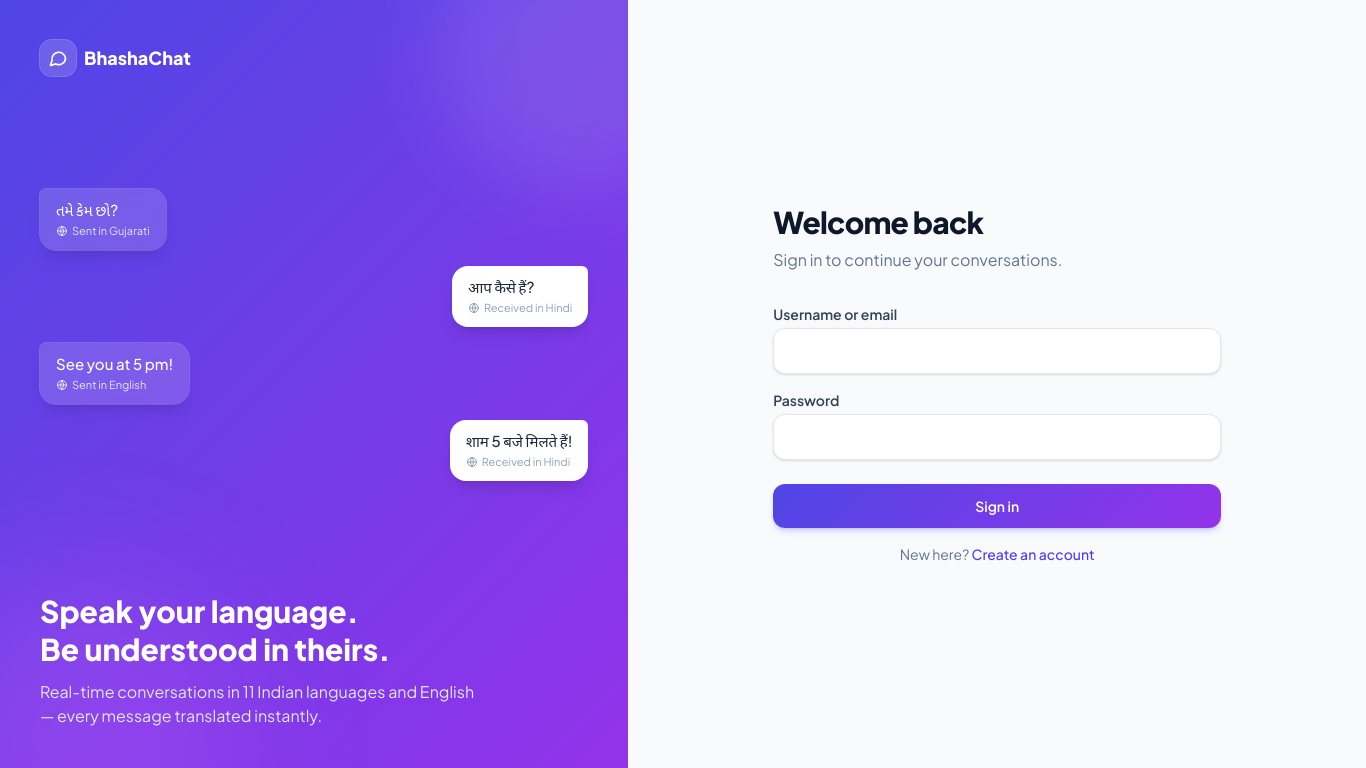
auth forms › shows a server error on failed login
Type "alice" into the field labelled "Username or email". click: (997, 351)
box: [773,328,1221,374]
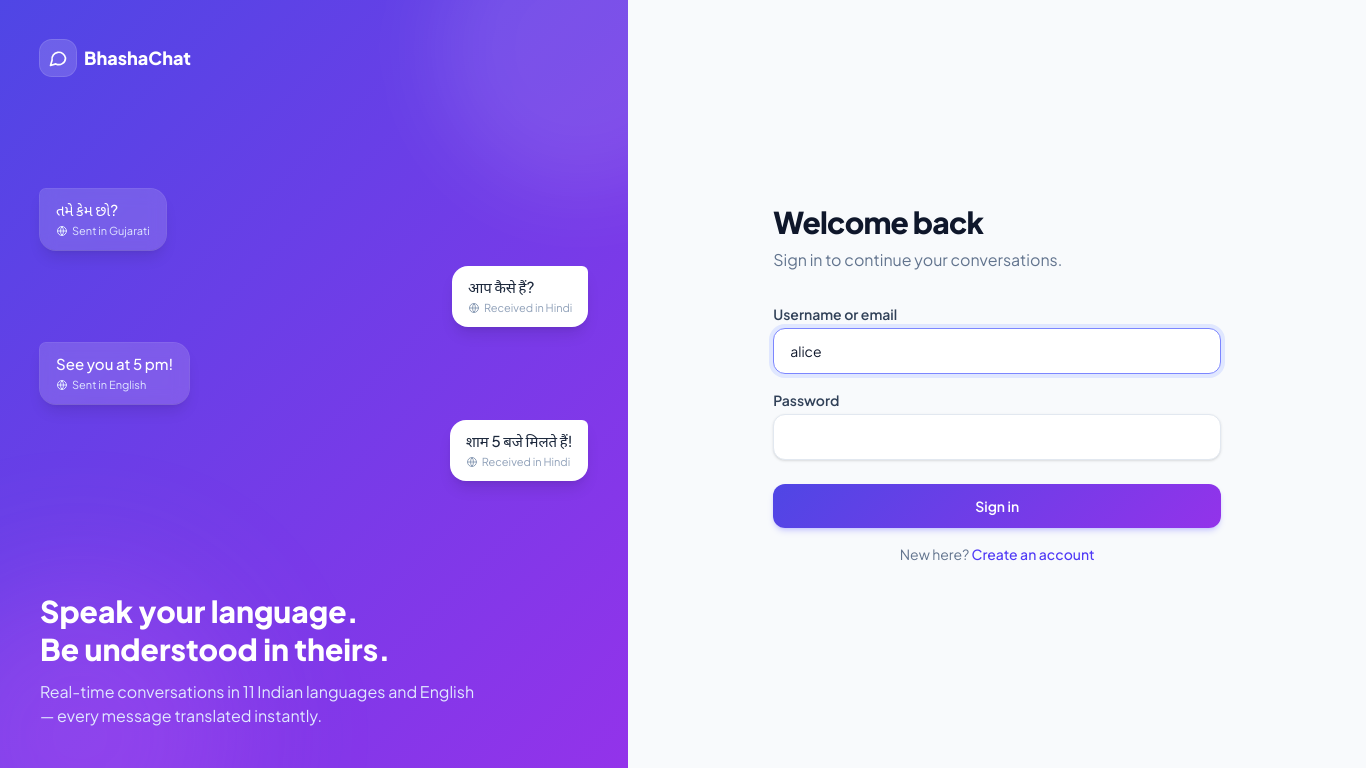
Type "wrong" into the password field labelled "Password". click: (997, 437)
box: [773,414,1221,460]
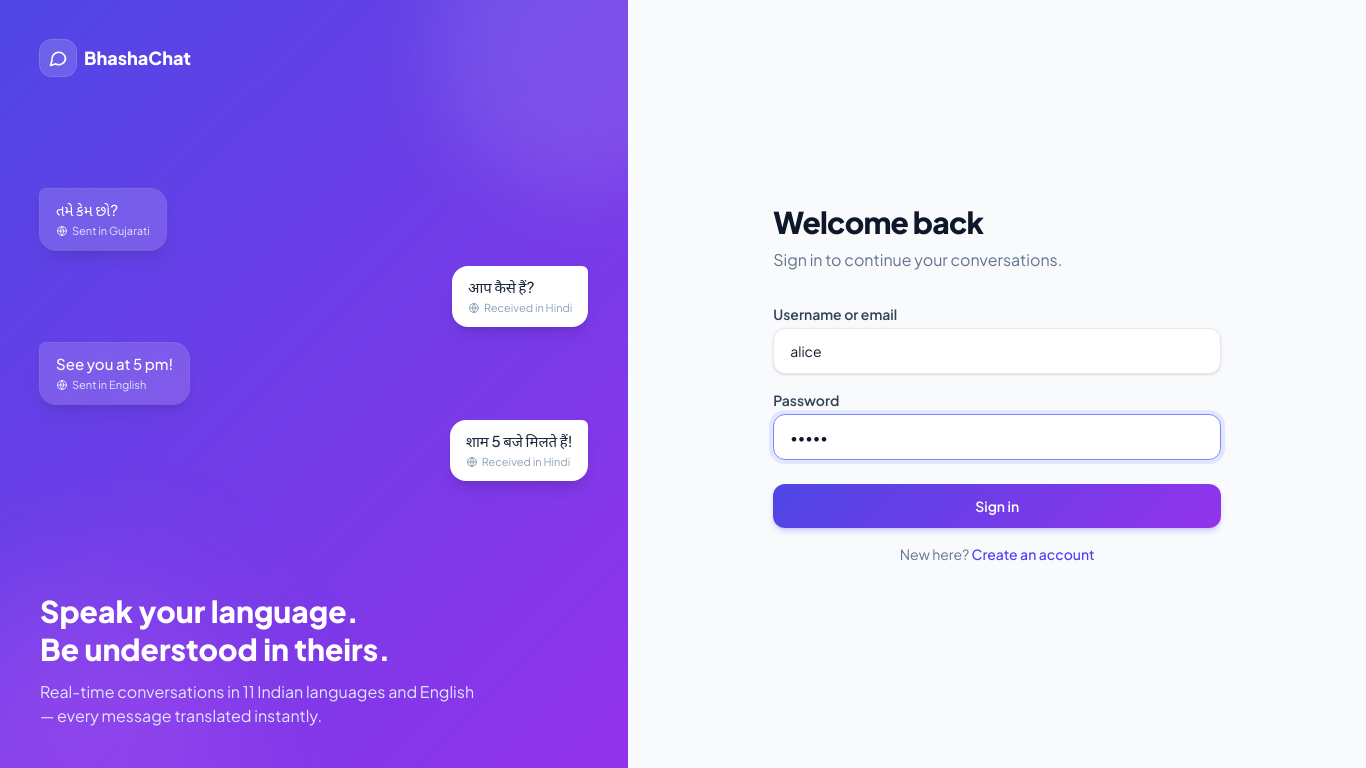
Click the button "Sign in". click: (997, 506)
box: [773,484,1221,528]
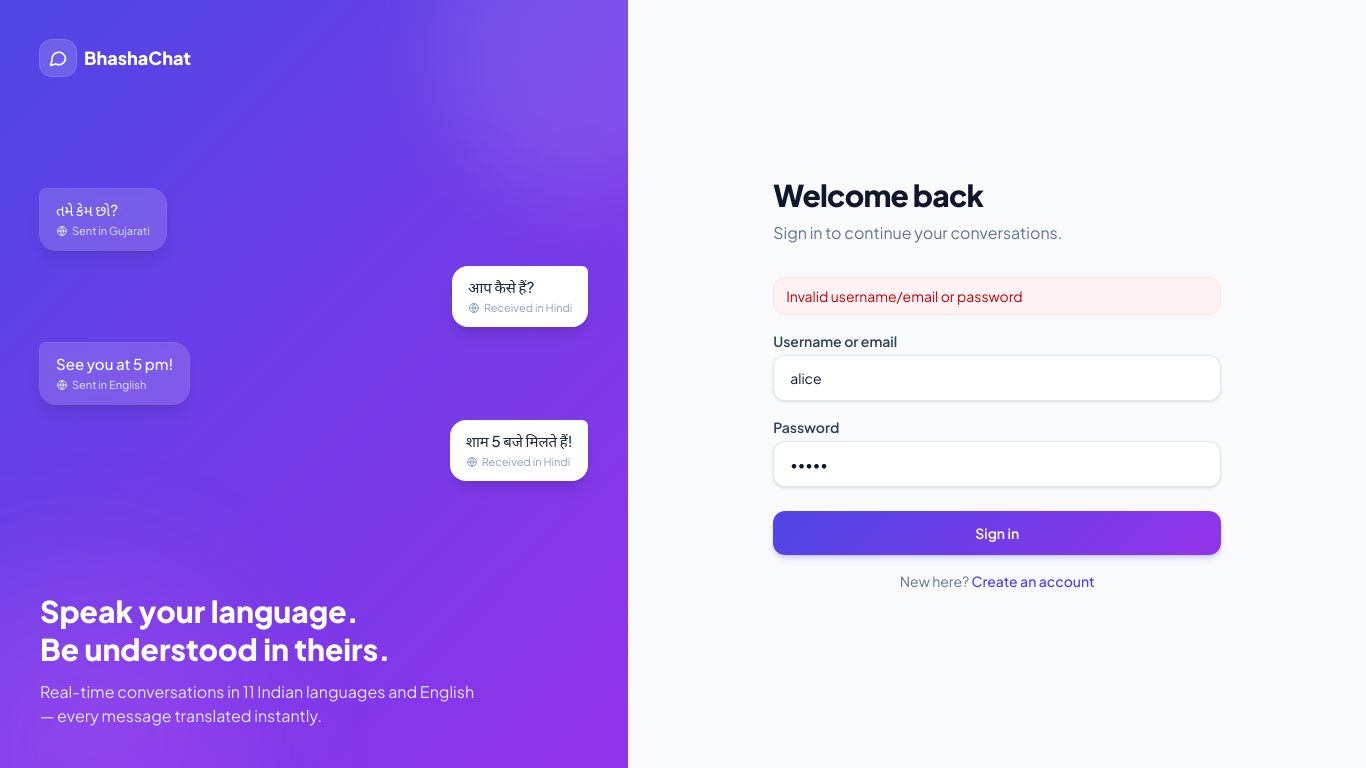
Now the message "Invalid username/email or password" is shown, box [773,277,1221,315]
